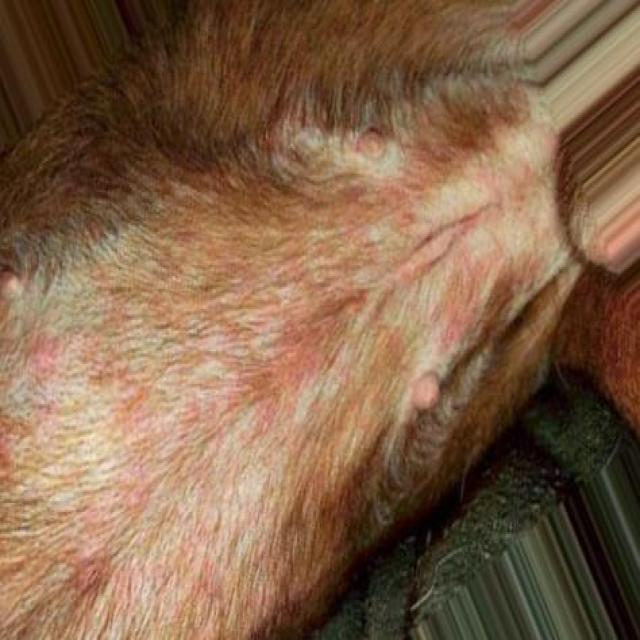di ung bo chet: (25, 188, 415, 570)
